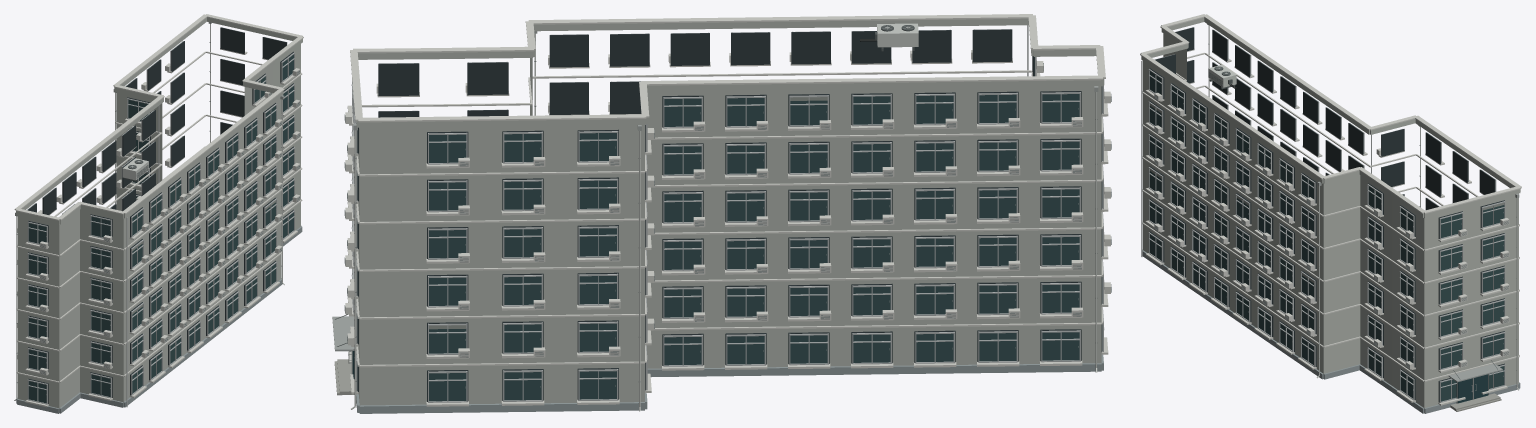
Rendered from osm_way_225255200.glb.
3 views of the same model, side by side, from view 1: azimuth 30°, elevation 25°; view 2: azimuth 150°, elevation 25°; view 3: azimuth 270°, elevation 25° (orthographic). The views are drawn at different scales.
Visible parts, largest first — view 1: Windows and facade details | 44, Architecture | 44, Roof services | 44, EXTERIOR::osm_way_225255200::rainwater and roof service deta; view 2: Architecture | 44, Windows and facade details | 44, Roof services | 44, EXTERIOR::osm_way_225255200::rainwater and roof service deta, EXTERIOR::osm_way_225255200::inferred entry doors canopy and; view 3: Architecture | 44, Windows and facade details | 44, Roof services | 44, EXTERIOR::osm_way_225255200::inferred entry doors canopy and, EXTERIOR::osm_way_225255200::rainwater and roof service deta.
Boxes of the visible parts, left/top/right/bottom form: Windows and facade details | 44: left=17, top=27, right=300, bottom=407; Architecture | 44: left=16, top=17, right=302, bottom=413; Roof services | 44: left=14, top=14, right=303, bottom=220; EXTERIOR::osm_way_225255200::rainwater and roof service deta: left=14, top=22, right=284, bottom=400; Architecture | 44: left=354, top=18, right=1104, bottom=413; Windows and facade details | 44: left=344, top=25, right=1111, bottom=406; Roof services | 44: left=350, top=14, right=1105, bottom=122; EXTERIOR::osm_way_225255200::rainwater and roof service deta: left=351, top=23, right=1098, bottom=411; EXTERIOR::osm_way_225255200::inferred entry doors canopy and: left=332, top=314, right=354, bottom=395; Architecture | 44: left=1141, top=17, right=1520, bottom=413; Windows and facade details | 44: left=1141, top=27, right=1509, bottom=405; Roof services | 44: left=1140, top=14, right=1521, bottom=213; EXTERIOR::osm_way_225255200::inferred entry doors canopy and: left=1448, top=360, right=1502, bottom=411; EXTERIOR::osm_way_225255200::rainwater and roof service deta: left=1207, top=24, right=1519, bottom=390.
Bounding box in the file's own units: 41.8 × 20.58 × 33.87.
